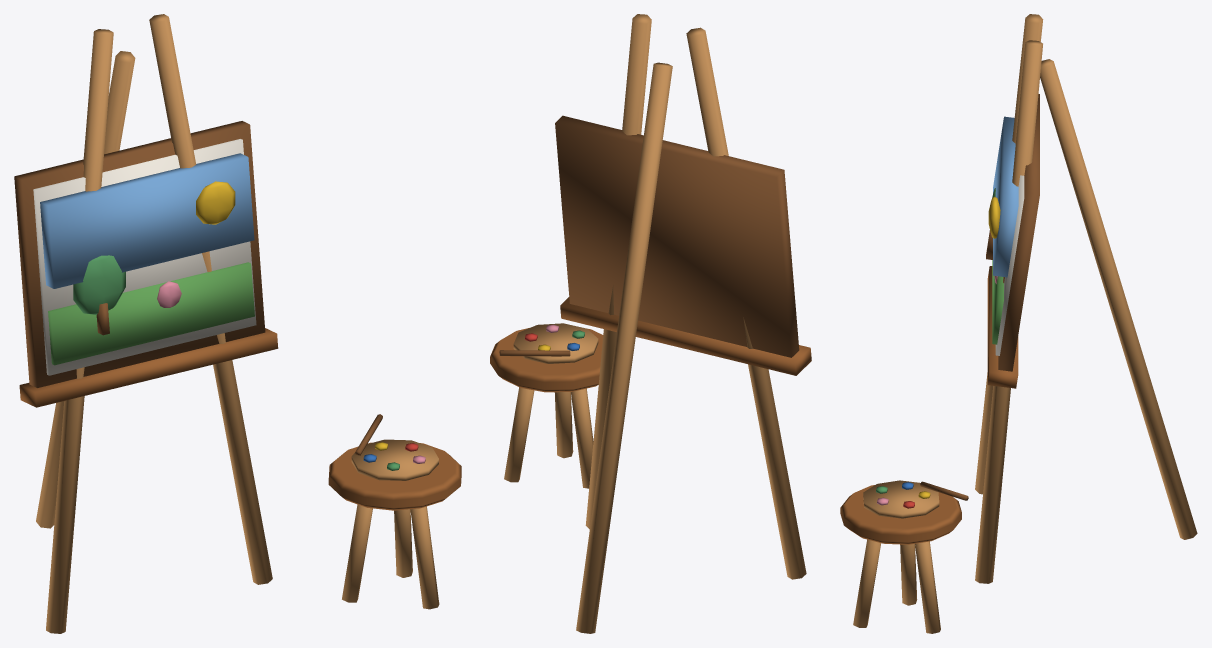
File: deco_painting_easel.glb
3 renders of one model, left to right at view 1: azimuth 30°, elevation 25°; view 2: azimuth 150°, elevation 25°; view 3: azimuth 270°, elevation 25°, orthographic. The views are drawn at different scales.
Visible parts, largest first — view 1: deco_painting_easel; view 2: deco_painting_easel; view 3: deco_painting_easel.
Boxes of the visible parts, box(x1,y1,x2,y2) form: deco_painting_easel: box(14, 14, 461, 633); deco_painting_easel: box(490, 14, 811, 633); deco_painting_easel: box(840, 14, 1197, 633).
Size of the model in its own units: 1.07 by 1.56 by 0.9933.
